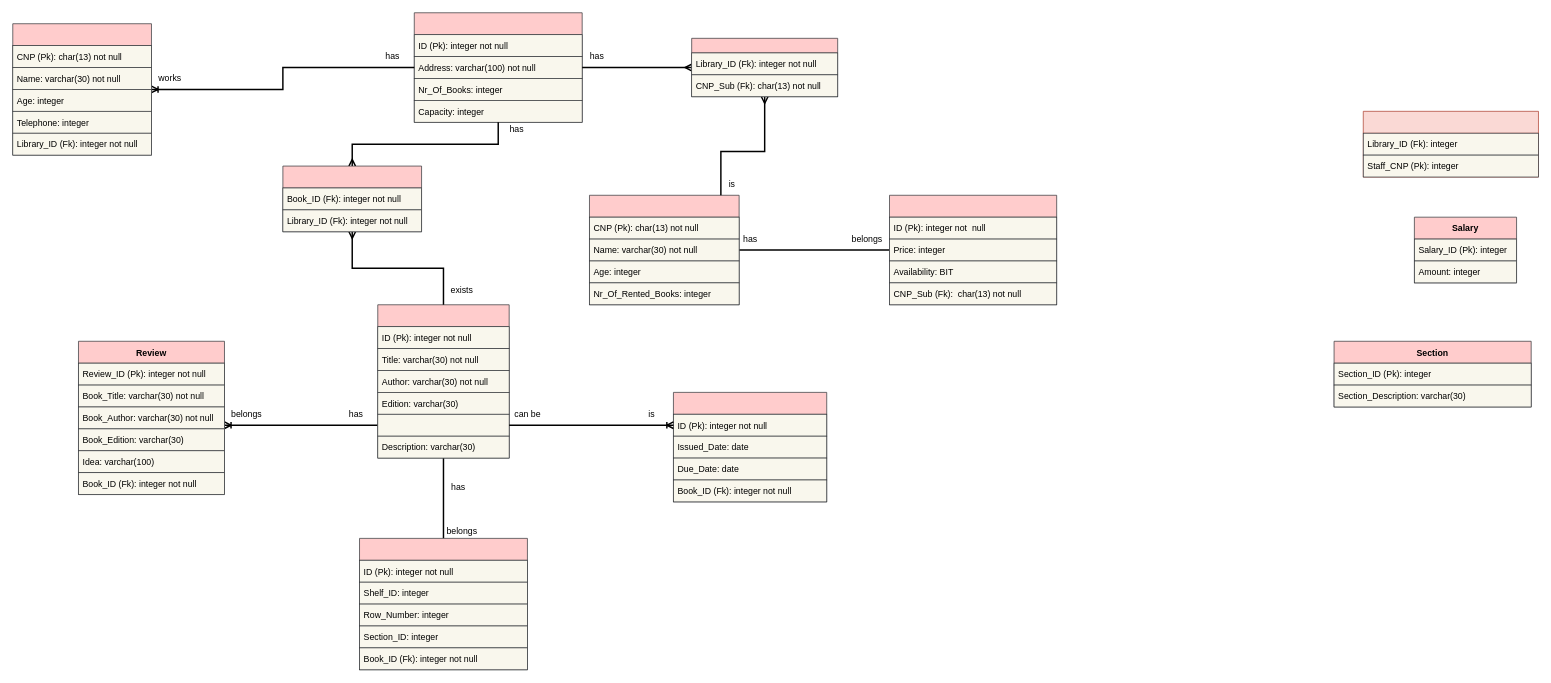
This 1551x683 diagram has some shape labels left out. Each missing label, with the box of its shape:
Book: (377, 304, 509, 458)
Borrowed: (673, 392, 827, 502)
Connection_Library_Book: (282, 165, 422, 232)
Connection_Library_Subscriber: (691, 38, 838, 97)
Connection_Staff_Member_Library: (1363, 111, 1538, 177)
Library: (414, 12, 582, 122)
Location: (359, 538, 527, 670)
Publisher: varchar(30): (377, 414, 509, 436)
Staff_Member: (12, 23, 151, 155)
Subscriber: (589, 195, 739, 305)
Subscription: (889, 195, 1057, 305)
